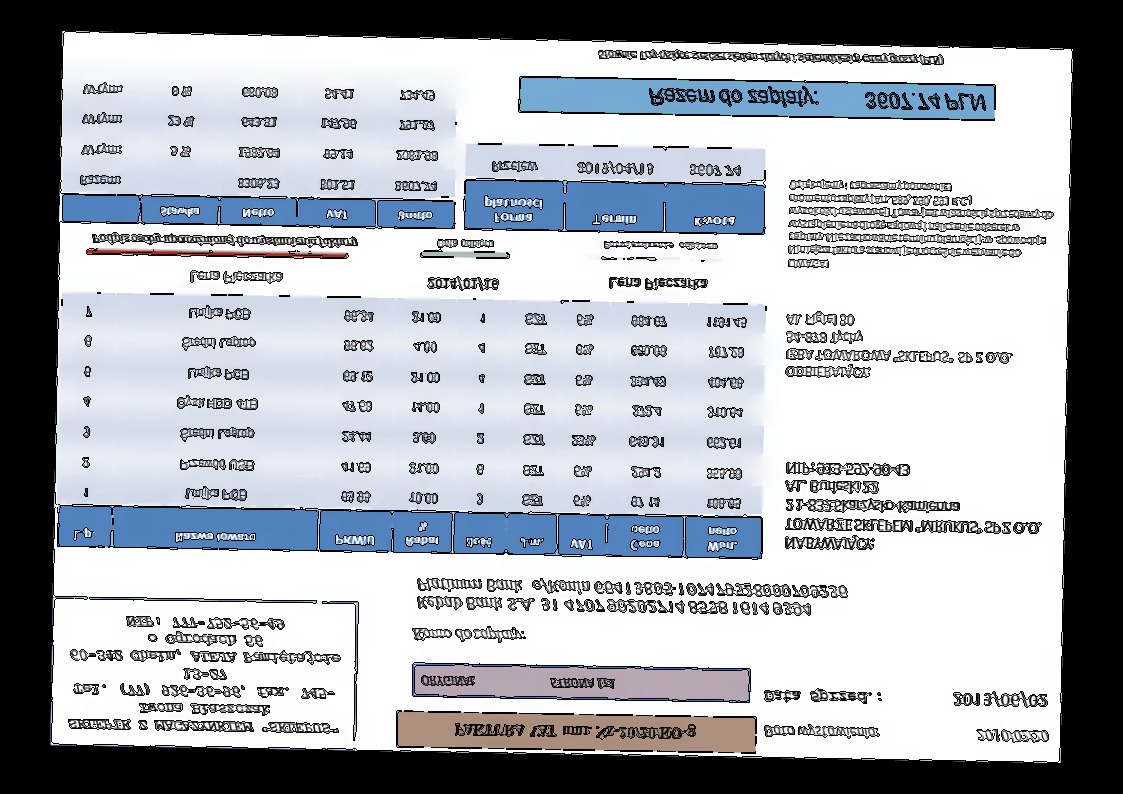Table: (55, 291, 768, 561), (60, 70, 458, 230), (463, 142, 768, 235)
TextBox: (65, 613, 344, 740), (785, 176, 1054, 275), (782, 458, 1045, 556), (415, 575, 850, 620), (783, 310, 1014, 384), (644, 84, 989, 114), (597, 47, 943, 70), (452, 718, 698, 744), (89, 229, 360, 251), (418, 672, 617, 692), (410, 623, 527, 646), (764, 686, 884, 707), (762, 724, 880, 742), (605, 274, 708, 294), (951, 691, 1048, 710), (602, 239, 718, 254), (188, 269, 284, 287), (425, 275, 501, 292), (974, 728, 1049, 745), (436, 236, 495, 252)
